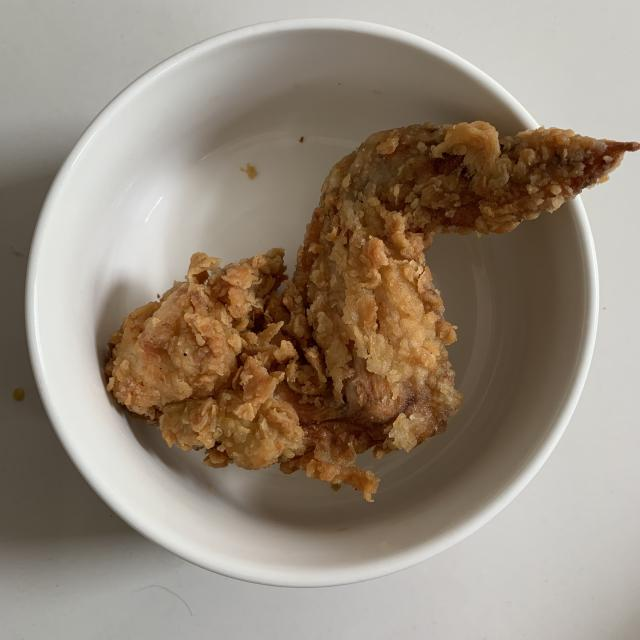Frango: (107, 121, 621, 486)
